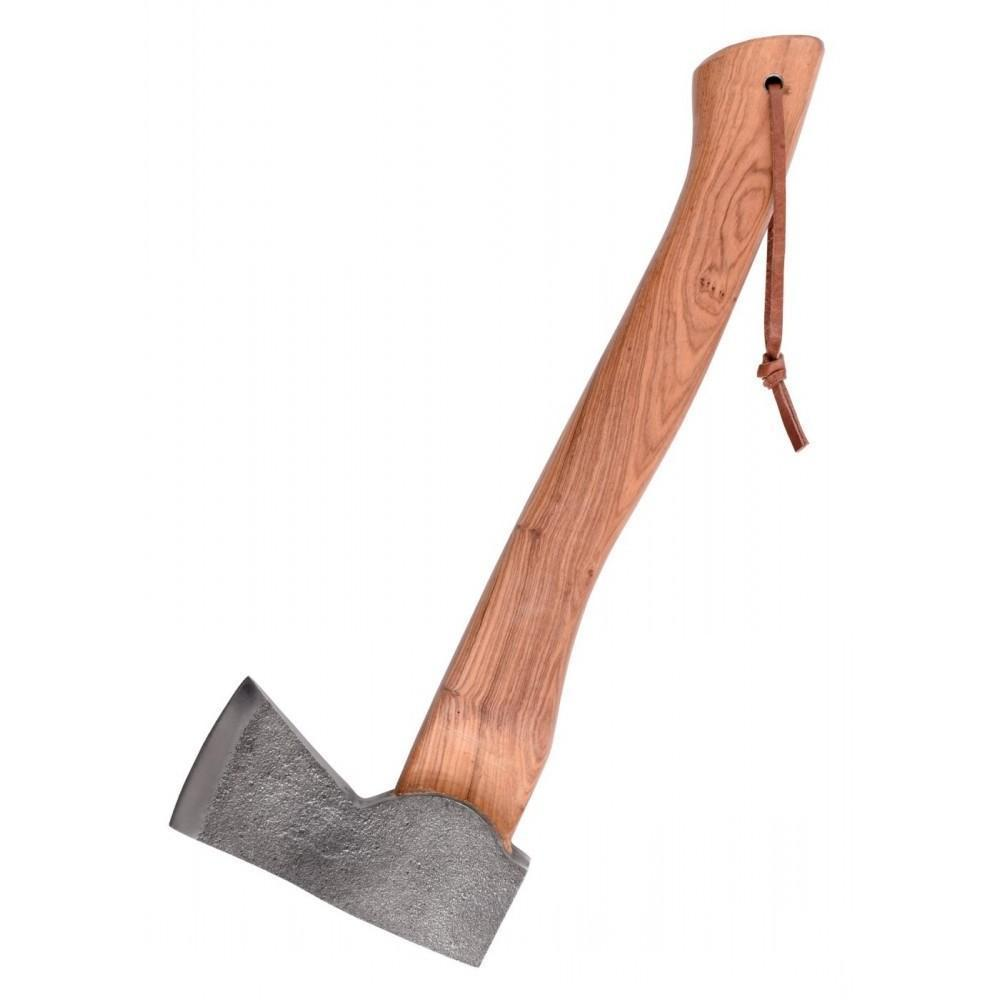machado: (170, 36, 821, 965)
